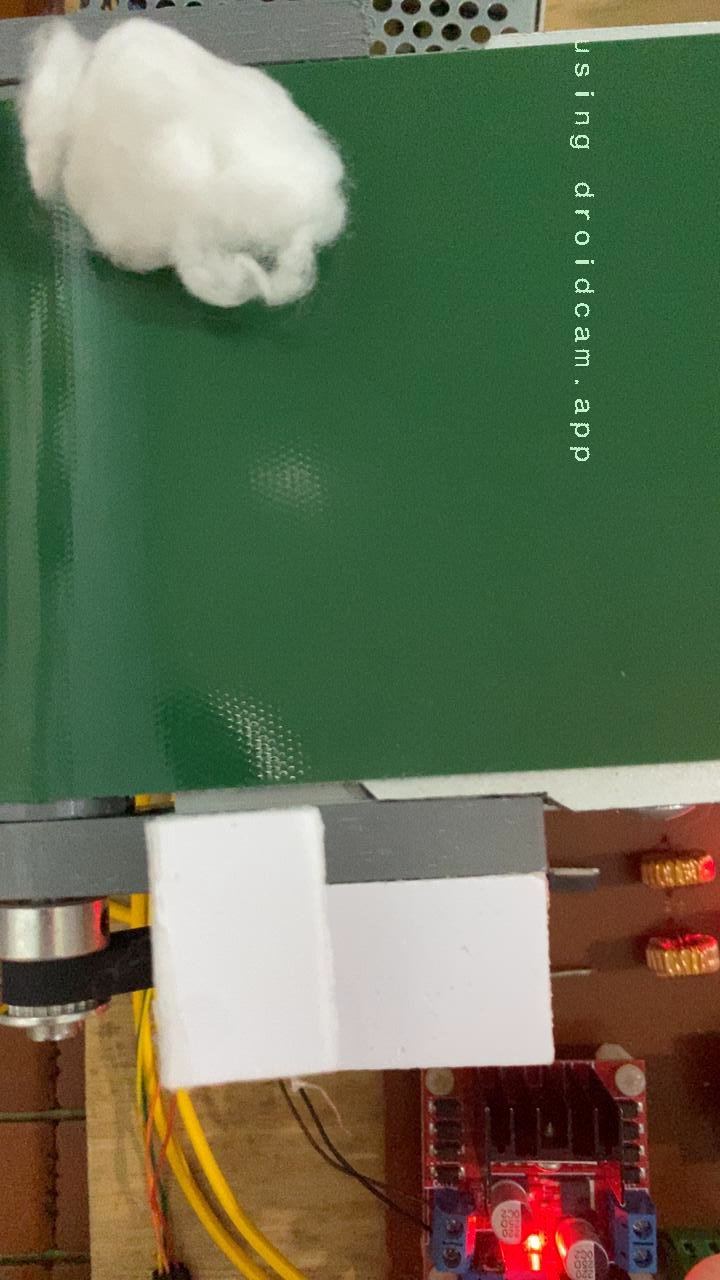cotton: (0, 49, 405, 313)
